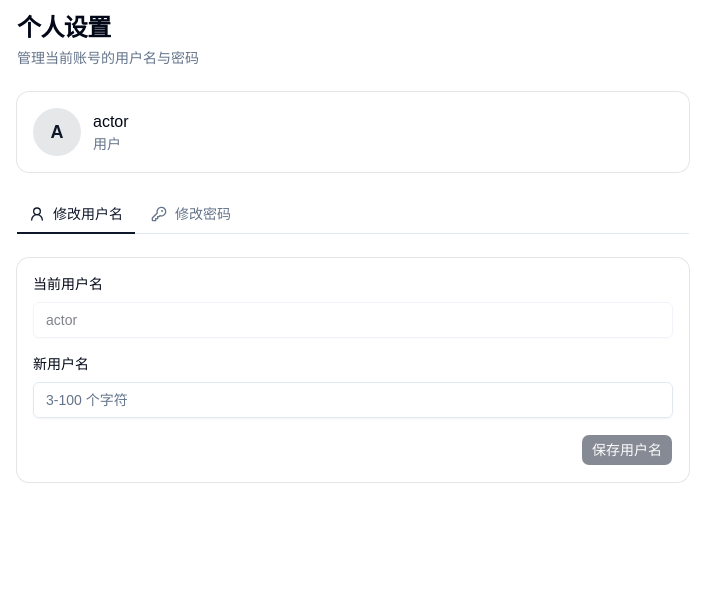
Test: ProfilePage — self-service username & password › blocks password save when the confirmation does not match
Expected: the field showing "actor" is shown, [33,302,673,338]
Click the tab "修改密码" at point(191, 215), box [139,196,243,234]
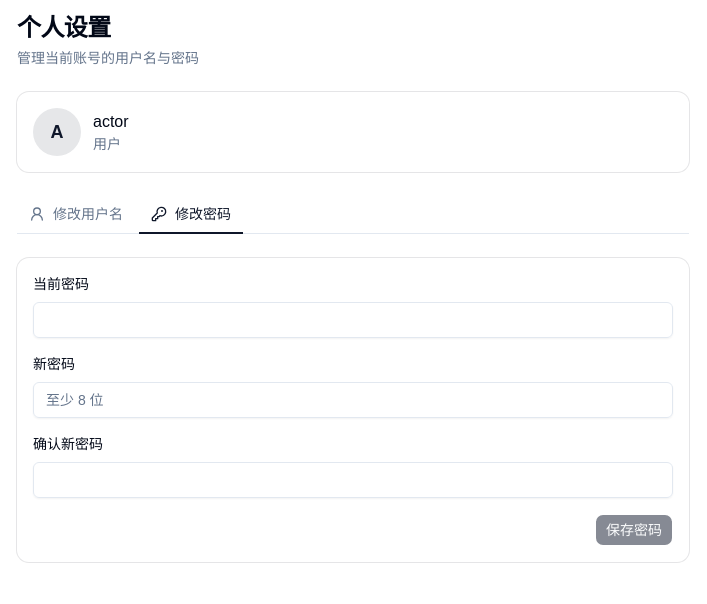
Type "old-pass" into the password field with id "current-password" at point(353, 320), box [33,302,673,338]
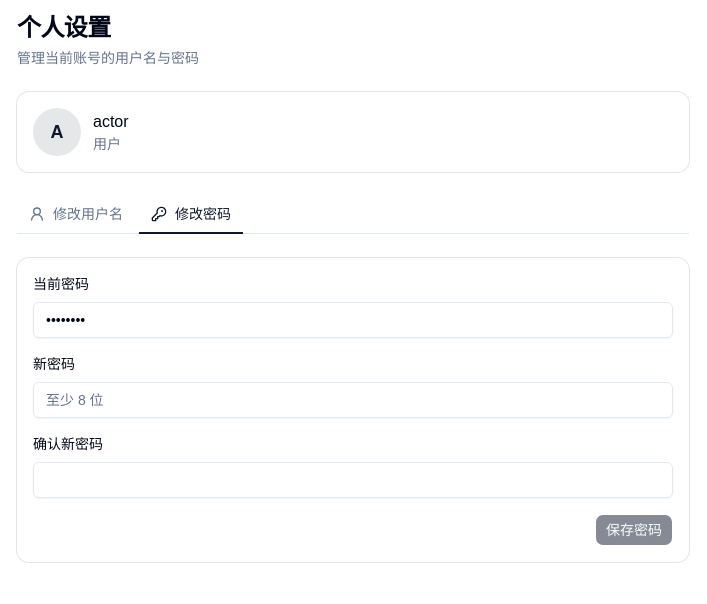
Type "fresh-pass-123" into the password field with id "new-password" at point(353, 400), box [33,382,673,418]
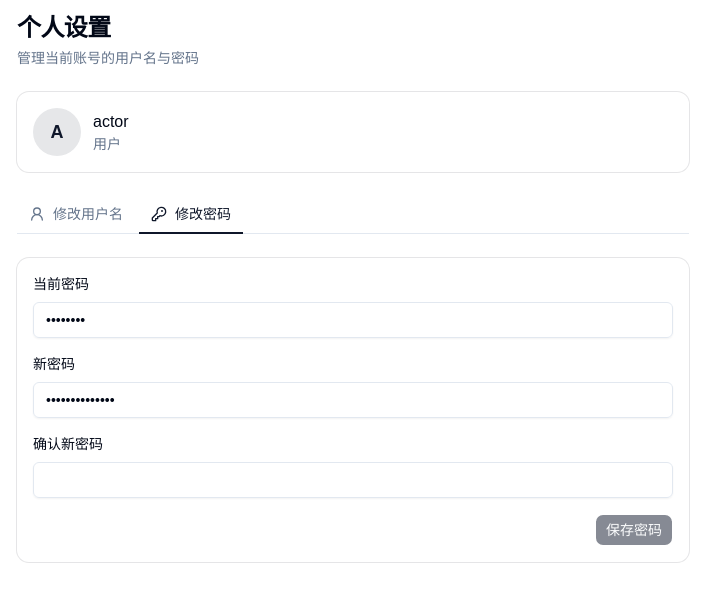
Type "different-123" into the password field with id "confirm-password" at point(353, 480), box [33,462,673,498]
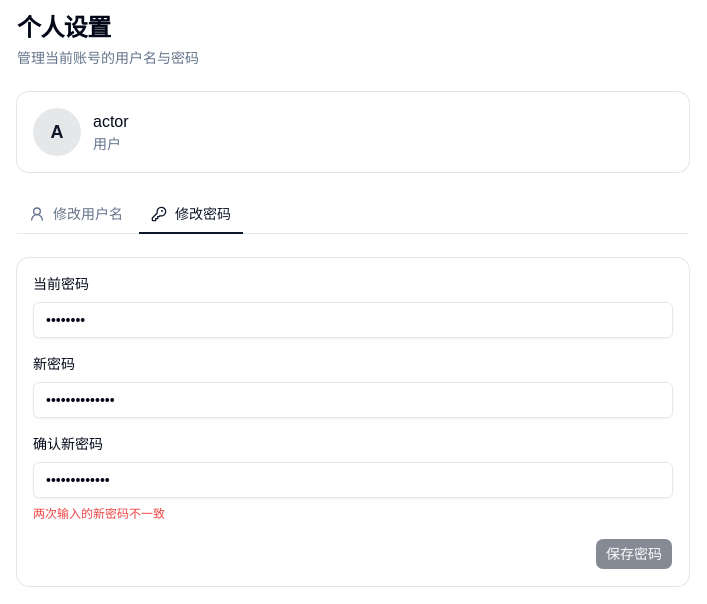
Expected: the button "保存密码" is disabled, [595,538,673,570]
Expected: the text "两次输入的新密码不一致" is shown, [33,507,165,521]
